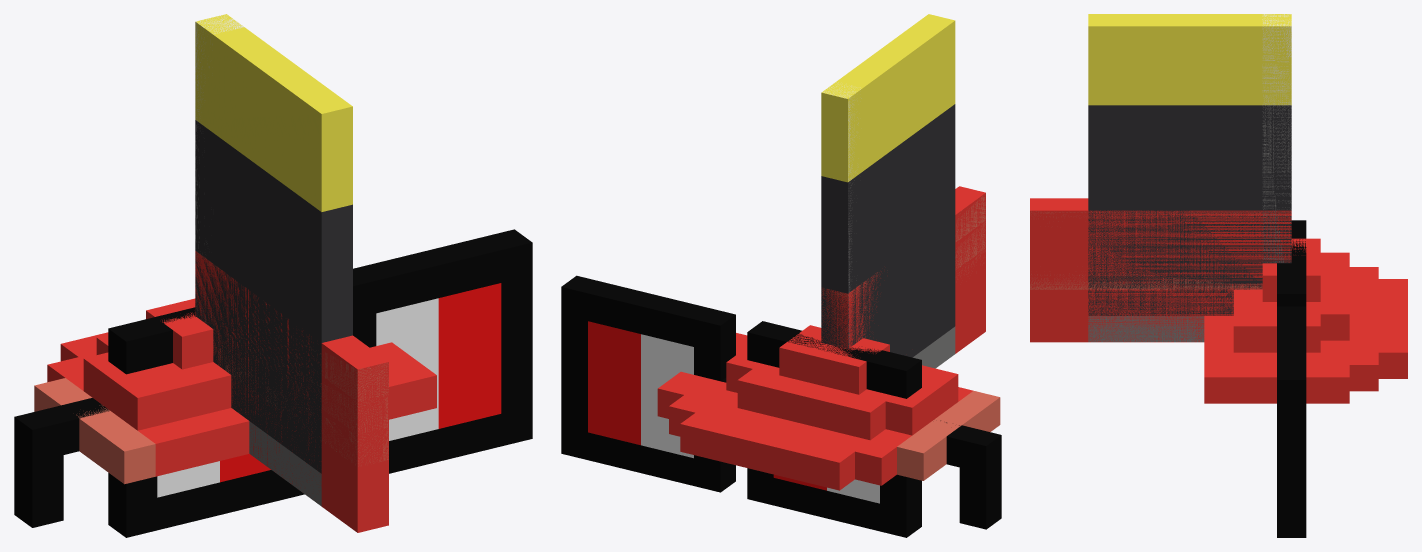
File: lipstick.glb
The picture shows the model from 3 angles, left to right: view 1: azimuth 30°, elevation 25°; view 2: azimuth 150°, elevation 25°; view 3: azimuth 270°, elevation 25°; orthographic projection. The views are drawn at different scales.
Parts seen in each view (by area): view 1: a, layer-1, base, layer-2, q (1), r (3), oo, p (4), e (71), ii (1); view 2: a, base, layer-1, layer-2, q (1), oo, e (71), r (3), p (4); view 3: a, r (3), q (1), base, layer-1, p (4), ii (1), oo.
Boxes of the visible parts, x1,y1,x2,y2 form: a: (195, 14, 352, 506); layer-1: (14, 229, 532, 537); base: (34, 298, 436, 484); layer-2: (157, 283, 501, 497); q (1): (195, 251, 388, 532); r (3): (195, 15, 349, 504); oo: (196, 253, 388, 532); p (4): (195, 252, 388, 528); e (71): (198, 310, 388, 529); ii (1): (195, 254, 357, 527); a: (821, 14, 955, 368); base: (657, 325, 1000, 490); layer-1: (561, 275, 1001, 537); layer-2: (588, 321, 879, 503); q (1): (821, 186, 985, 353); oo: (822, 194, 985, 352); e (71): (838, 222, 985, 350); r (3): (823, 14, 955, 365); p (4): (821, 195, 985, 348); a: (1088, 14, 1291, 342); r (3): (1088, 14, 1291, 342); q (1): (1030, 198, 1291, 342); base: (1204, 238, 1407, 403); layer-1: (1277, 220, 1306, 537); p (4): (1030, 211, 1289, 342); ii (1): (1030, 210, 1290, 342); oo: (1030, 211, 1290, 342).
Bounding box in the file's own units: 16 × 15 × 13.
Materials: 22 (22 with a texture image).
